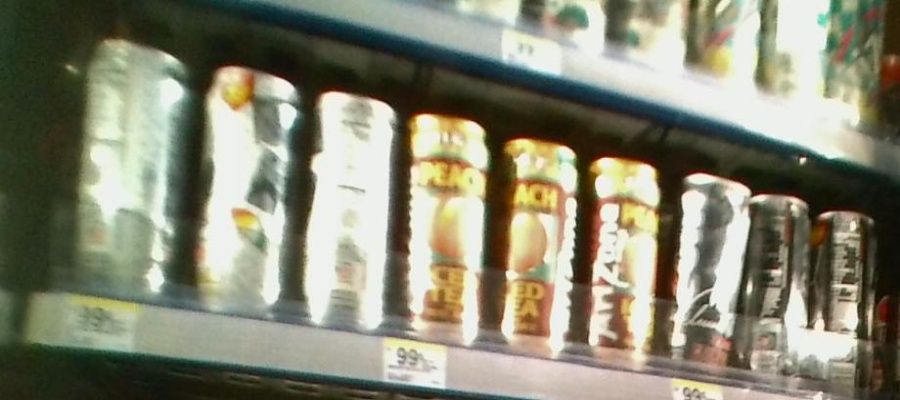bottle: (72, 29, 191, 309), (196, 47, 295, 328), (302, 68, 396, 343), (401, 99, 491, 351), (493, 114, 584, 362), (669, 156, 748, 392), (587, 133, 664, 374), (751, 178, 818, 394), (822, 183, 878, 399)
